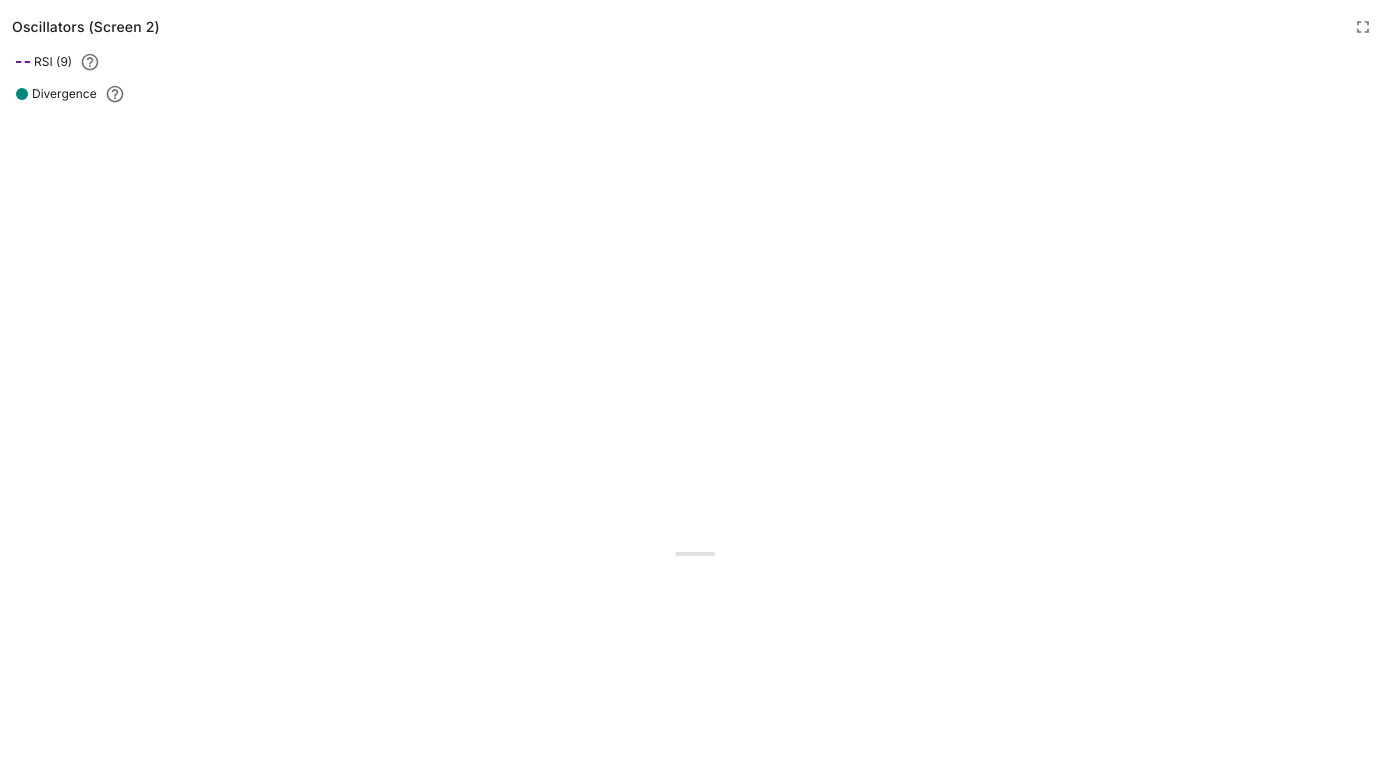
Test: OscillatorChart › divergence overlay (frontend-divergence-markers) › shows the Divergence legend naming the actual two dates/values compared for this ticker
This screenshot has width=1390, height=780.
Check: the text "Divergence" is shown, box [32,84,97,104]
Click the button named "Divergence help". click: coordinates (115, 94)
box: [105,84,125,104]
(page scrolled)
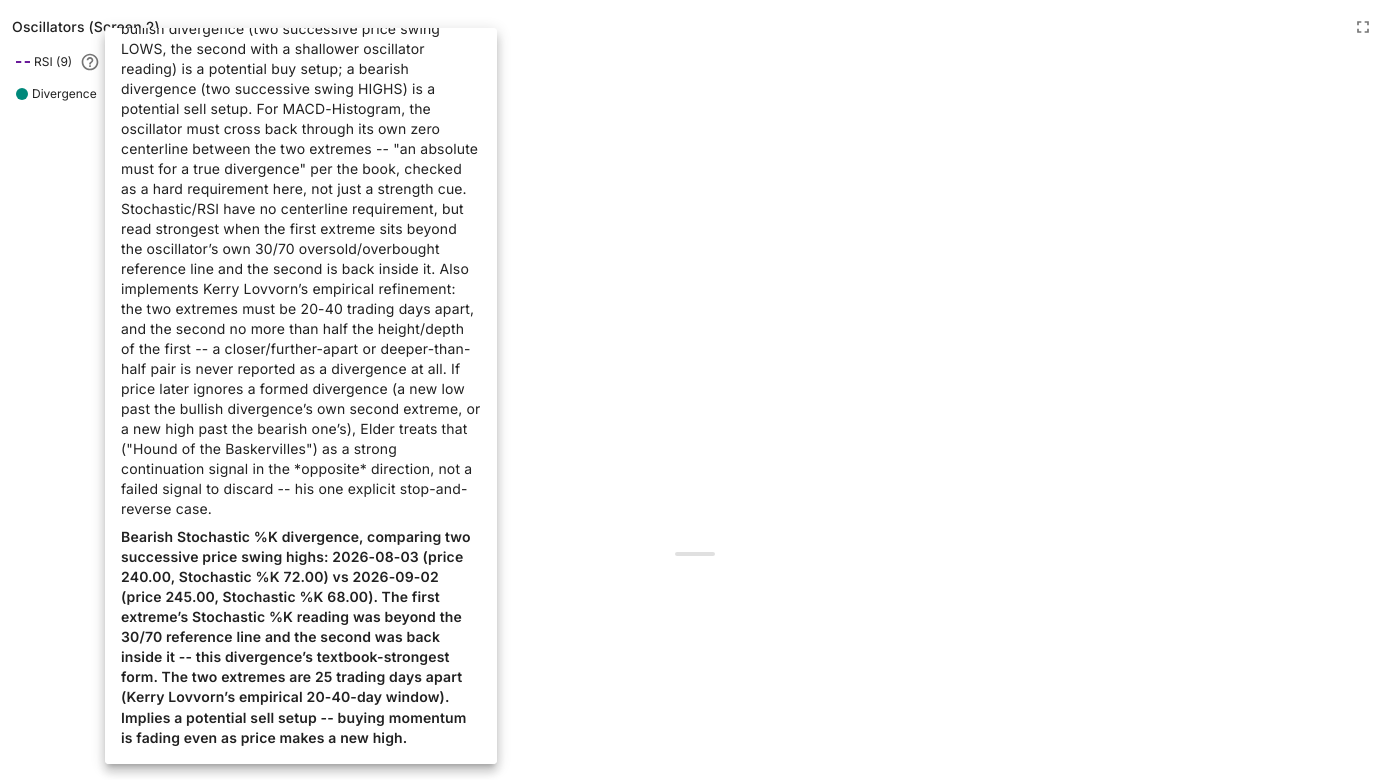
Check: the text "68.00" is shown, box [121,528,471,746]
